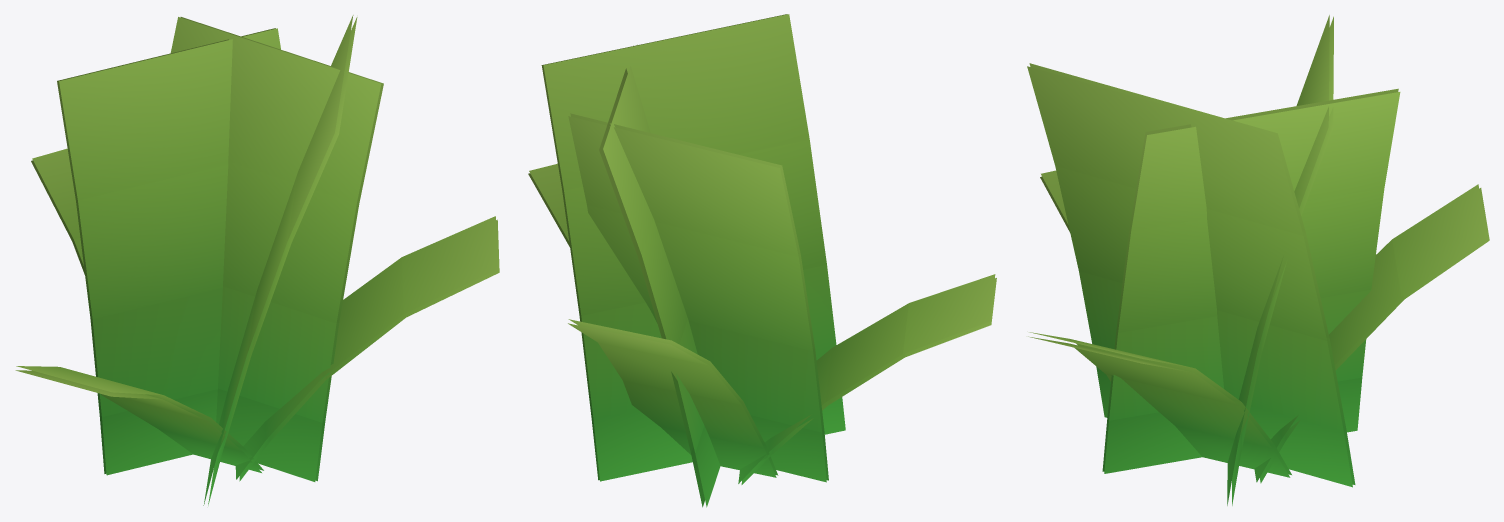
Rendered from grass_tuft_1.glb.
3 renders of one model, left to right at view 1: azimuth 30°, elevation 25°; view 2: azimuth 150°, elevation 25°; view 3: azimuth 270°, elevation 25°, orthographic. The views are drawn at different scales.
Visible parts, largest first — view 1: grass_tuft_1; view 2: grass_tuft_1; view 3: grass_tuft_1.
Boxes of the visible parts, bbox=[...] form: grass_tuft_1: bbox=[15, 15, 499, 505]; grass_tuft_1: bbox=[528, 14, 996, 507]; grass_tuft_1: bbox=[1027, 15, 1489, 505].
Bounding box in the file's own units: 0.3027 × 0.2282 × 0.2393.
